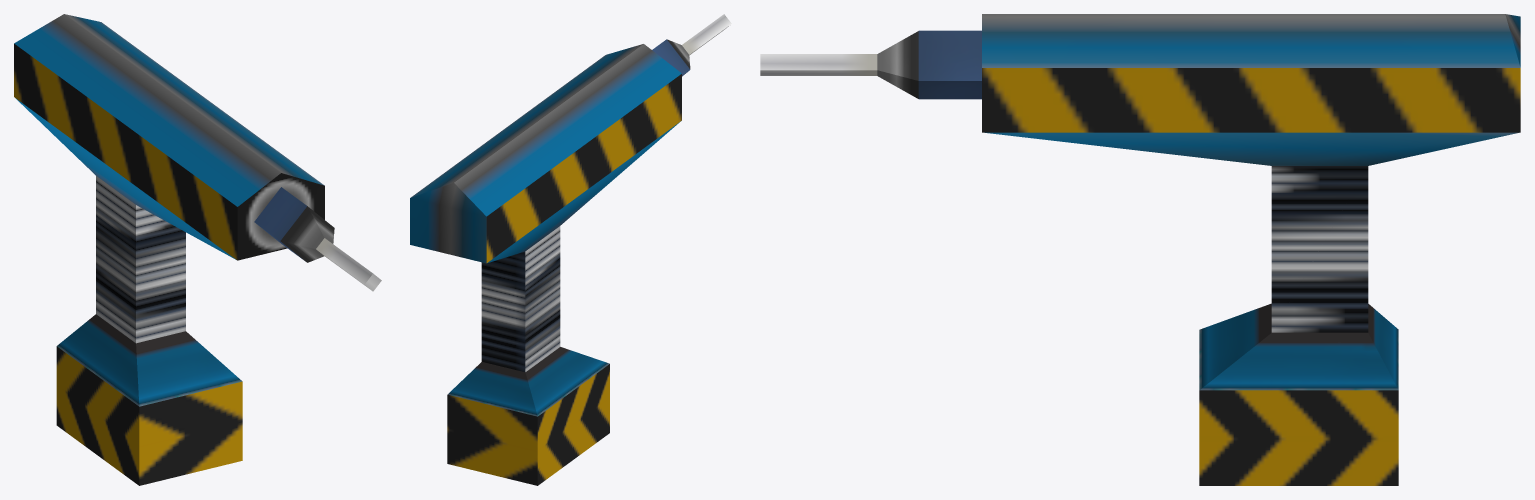
The model's file is Drill_Blue.fbx.
3 renders of one model, left to right at view 1: azimuth 30°, elevation 25°; view 2: azimuth 150°, elevation 25°; view 3: azimuth 270°, elevation 25°, orthographic. The views are drawn at different scales.
Visible parts, largest first — view 1: Blue_Drill_01; view 2: Blue_Drill_01; view 3: Blue_Drill_01.
Part boxes in pixels (bbox=[...]): Blue_Drill_01: bbox=[14, 14, 381, 485]; Blue_Drill_01: bbox=[410, 14, 731, 485]; Blue_Drill_01: bbox=[760, 14, 1520, 485].
Bounding box in the file's own units: 0.092 × 0.312 × 0.4867.
